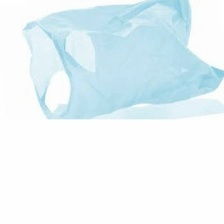plastic_bag: (16, 0, 223, 122)
